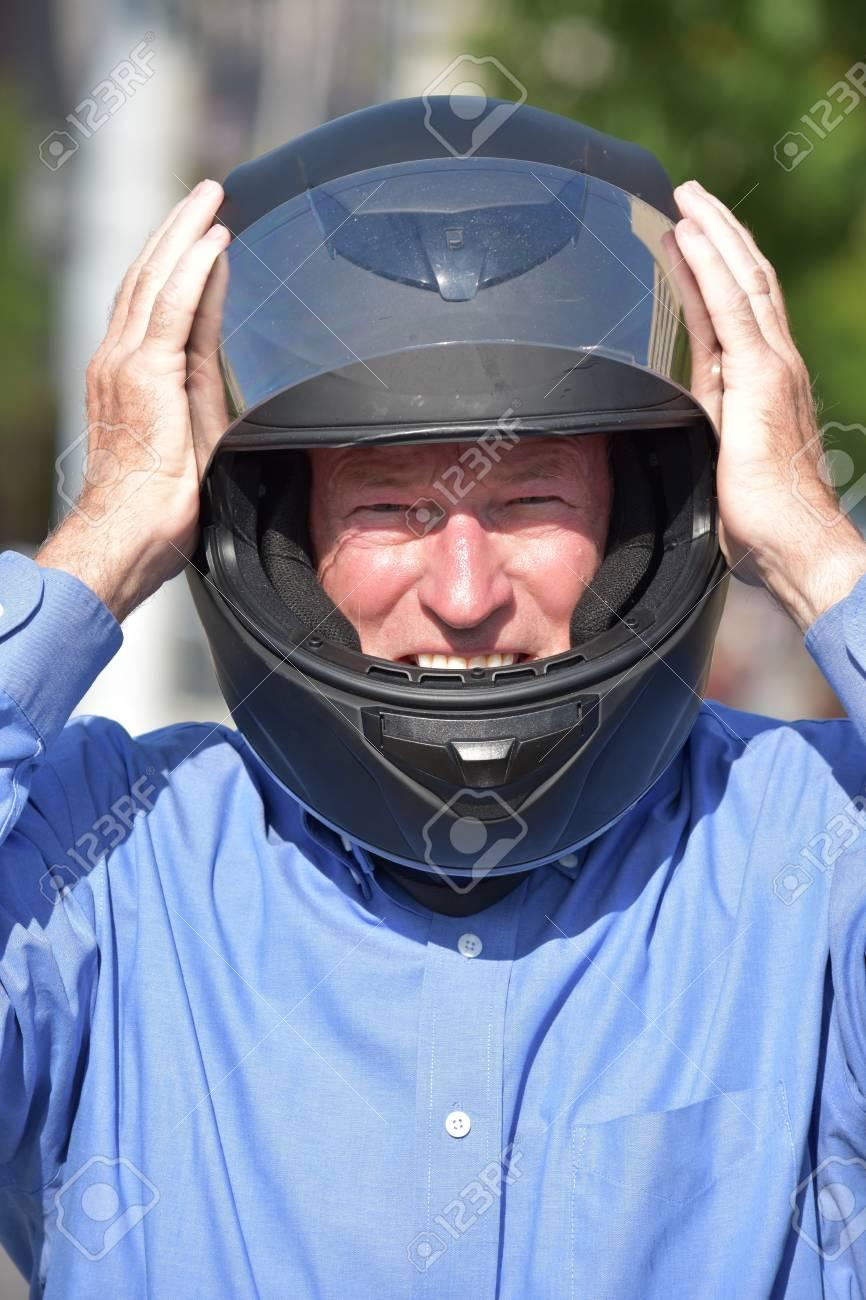Helmet: (188, 95, 730, 923)
